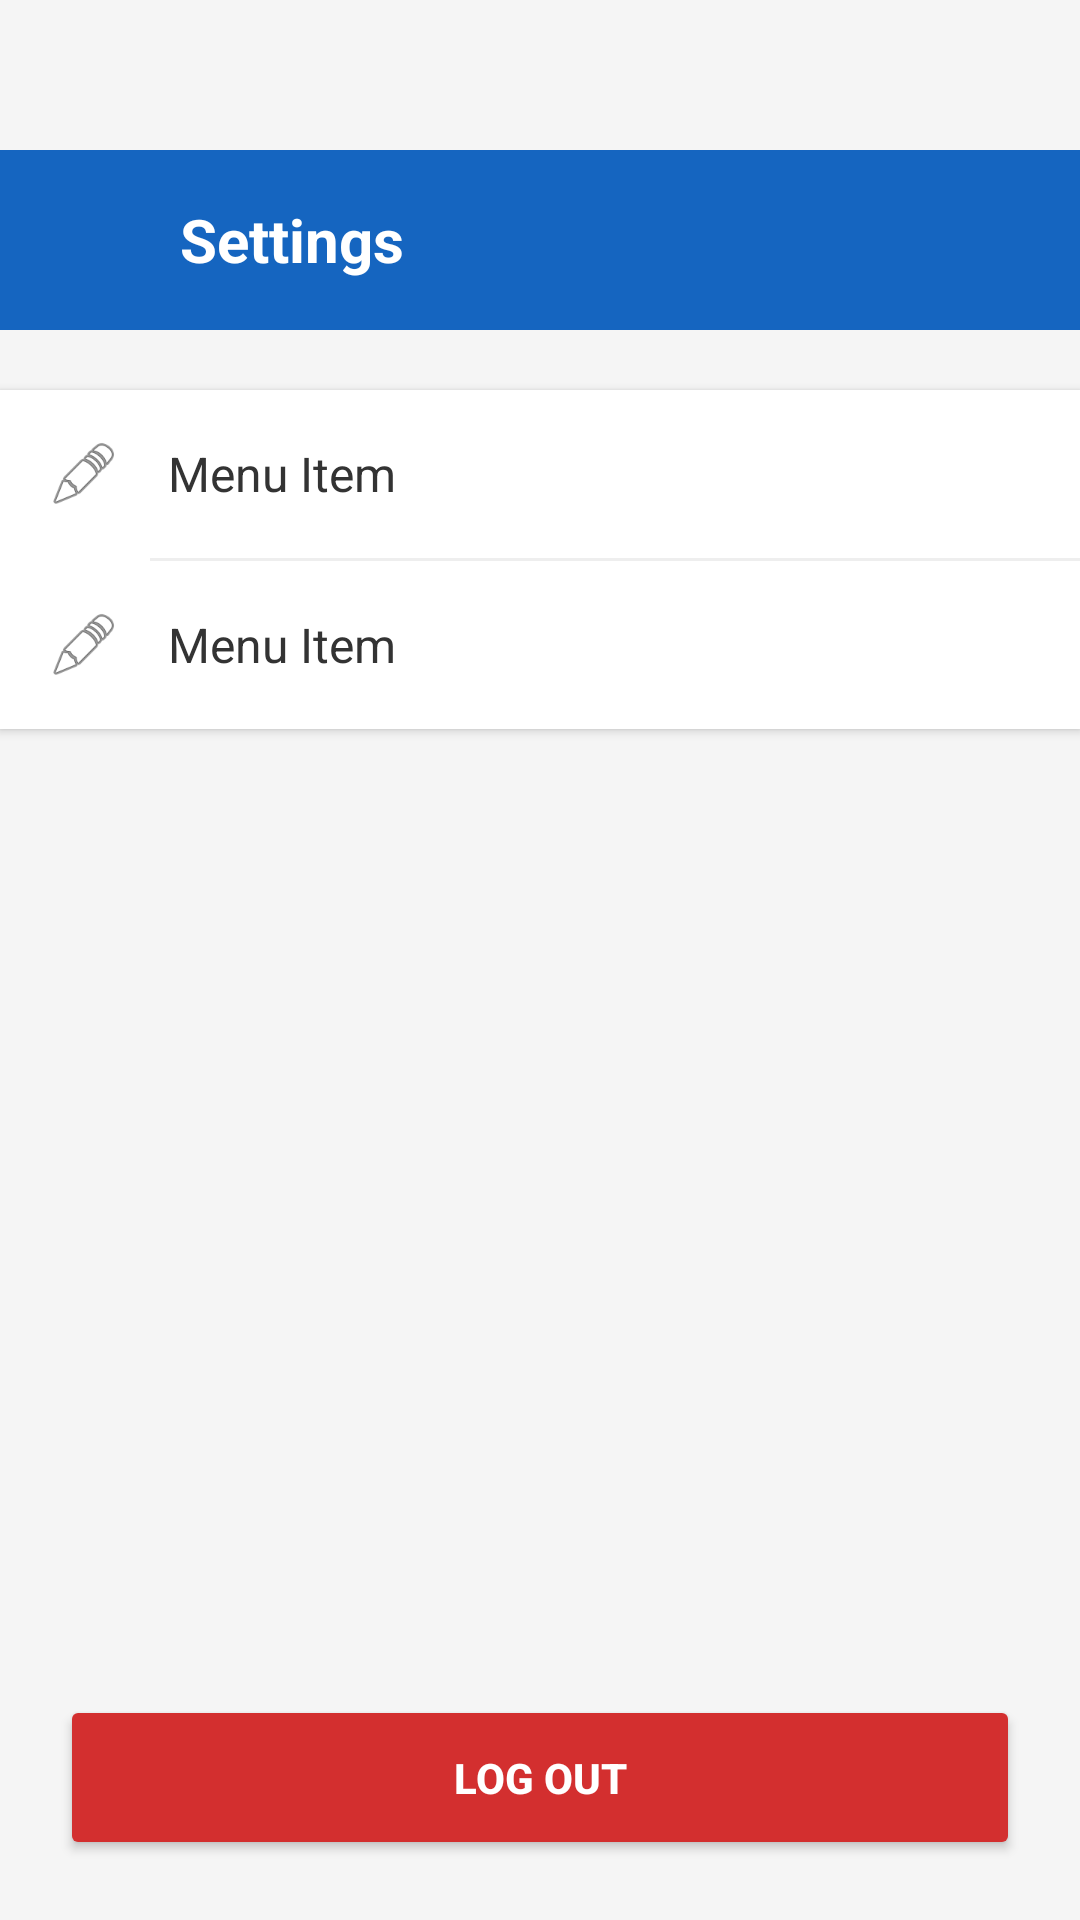

Where to tap for icons on this 1080*1920 app screen, as (x,y):
edit: (83,473), (83,644)
